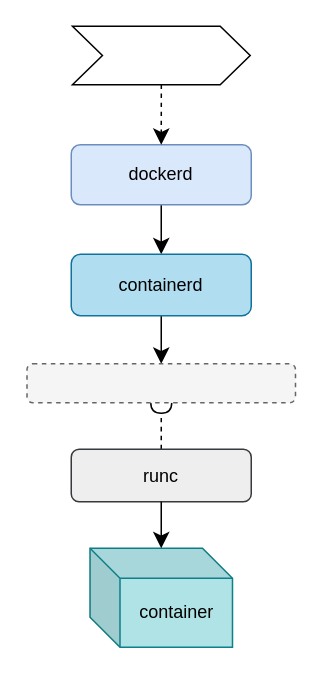
The diagram is 321 pixels wide and 674 high, and some of its shapes have lost their labels. The shapes that lost their labels are listed below. From the top down, each one's centre as x and y in pixels, then its label:
At point 160,55: "Docker CLI".
At point 161,382: "OCI".
